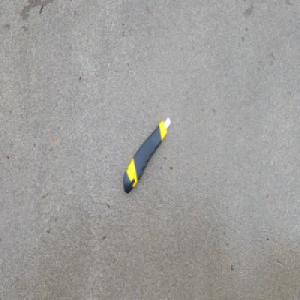Cutter: (121, 115, 171, 197)
